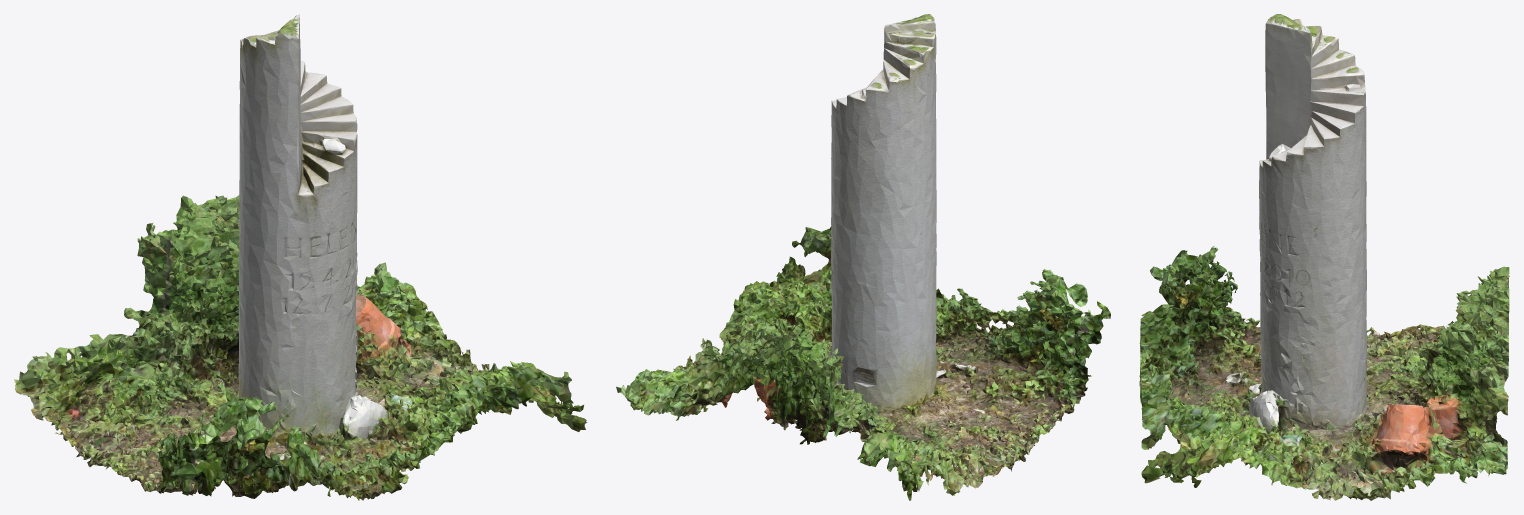
The picture shows the model from 3 angles, left to right: view 1: azimuth 30°, elevation 25°; view 2: azimuth 150°, elevation 25°; view 3: azimuth 270°, elevation 25°; orthographic projection. The views are drawn at different scales.
Visible parts, largest first — view 1: 1k.25k; view 2: 1k.25k; view 3: 1k.25k.
Part boxes in pixels (box(x1,y1,x2,y2)): 1k.25k: box(14, 14, 587, 500); 1k.25k: box(616, 14, 1110, 500); 1k.25k: box(1139, 14, 1509, 500).
Bounding box in the file's own units: 3.66 × 4.07 × 3.38.
Materials: 1 (1 with a texture image).
